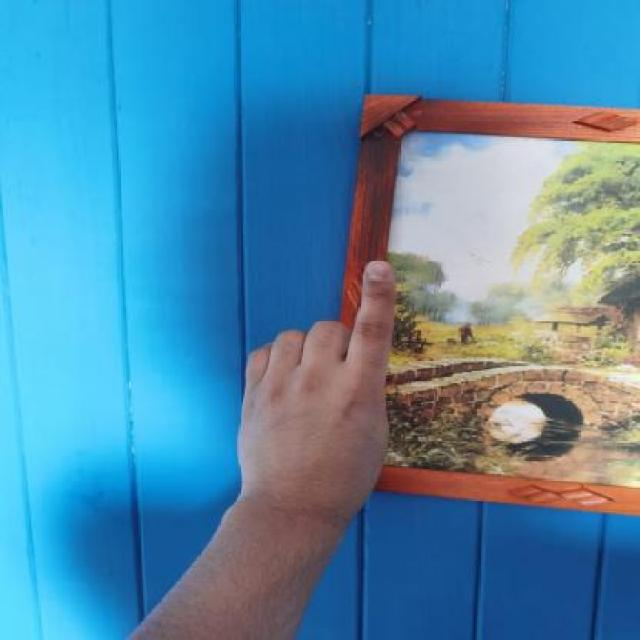T: (233, 255, 430, 510)
